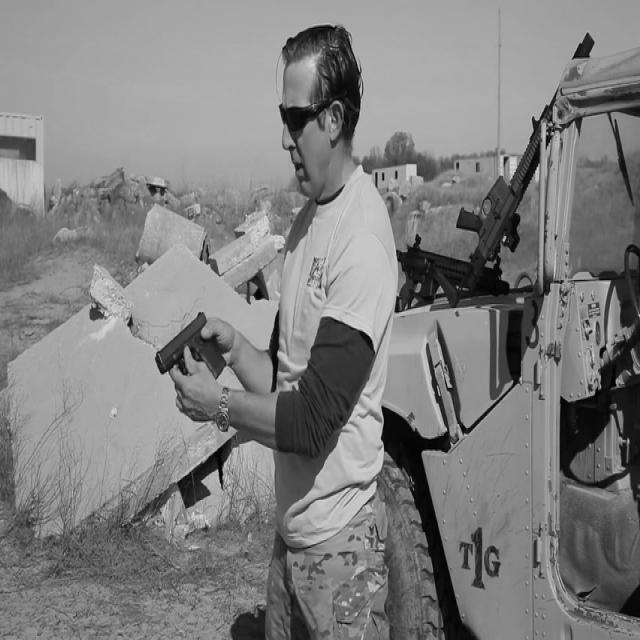Hand-Gun: (143, 225, 304, 524)
